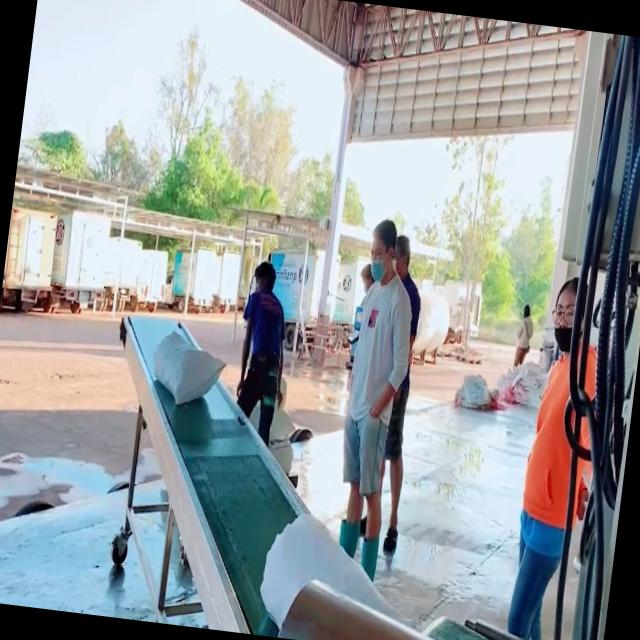ice-bag: (250, 499, 430, 640), (141, 315, 232, 410)
